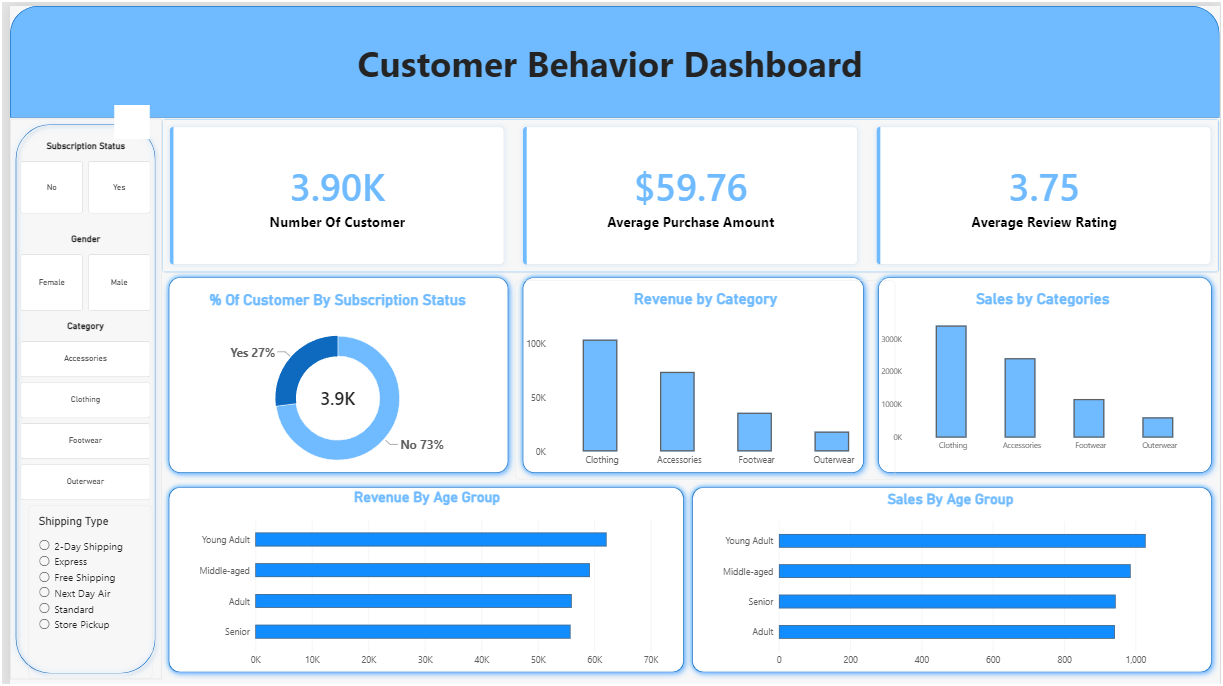

This screenshot's page, from the dashboard's own definition file:
{"tool":"powerbi","page":{"name":"Page 1","canvas":[1920,1080],"ordinal":0},"visuals":[{"type":"cardVisual","fields":{"Data":["customer.Number Of Customer","customer.Average Purchase Amount","customer.Average Review Rating"]},"box":[240,177.5,1680,245],"z":0},{"type":"shape","box":[0,0,1920,177.5],"z":1000},{"type":"textbox","box":[0,52.5,1920,102.5],"z":2000},{"type":"shape","box":[240.5,419,561.9,333.3],"z":3000},{"type":"donutChart","title":"% Of Customer By Subscription Status ","fields":{"Category":["customer.subscription_status"],"Y":["CountNonNull(customer.customer_id)"]},"box":[223.8,435.7,592.5,330],"z":4000},{"type":"shape","box":[802.4,419,564.3,333.3],"z":5000},{"type":"shape","box":[1366.7,419,552.4,333.3],"z":6000},{"type":"clusteredColumnChart","title":"Revenue by Category","fields":{"Category":["customer.category"],"Y":["Sum(customer.purchase_amount)"]},"box":[802.4,435.7,602.4,316.7],"z":7000},{"type":"clusteredColumnChart","title":"Sales by Categories ","fields":{"Category":["customer.category"],"Y":["Sum(customer.customer_id)"]},"box":[1366.7,435.7,545.2,290.5],"z":8000},{"type":"shape","box":[1,178,240,890],"z":9000},{"type":"advancedSlicerVisual","title":"Subscription Status","fields":{"Values":["customer.subscription_status"]},"box":[15.7,214.3,207.1,115.7],"z":10000},{"type":"advancedSlicerVisual","title":"Gender","fields":{"Values":["customer.gender"]},"box":[17.1,361.4,207.1,122.9],"z":11000},{"type":"advancedSlicerVisual","title":"Category","fields":{"Values":["customer.category"]},"box":[17.8,500,206.7,293.3],"z":11001},{"type":"listSlicer","title":"Shipping Type","fields":{"Values":["customer.shipping_type"]},"box":[27.5,792.5,197.5,275],"z":11002},{"type":"shape","box":[240.5,752.4,840.5,316.7],"z":11004},{"type":"clusteredBarChart","title":"Revenue By Age Group","fields":{"Category":["customer.age_group"],"Y":["Sum(customer.purchase_amount)"]},"box":[278.6,752.4,766.7,316.7],"z":11005},{"type":"shape","box":[1071.4,752.4,847.6,316.7],"z":11006},{"type":"clusteredBarChart","title":"Sales By Age Group","fields":{"Category":["customer.age_group"],"Y":["CountNonNull(customer.customer_id)"]},"box":[1109.5,754.8,766.7,314.3],"z":11007}]}

Visuals, with their boxes in screenshot pixels (x1, y1, x2, y2), scaled from the page's 1920x1080 canvas onto the 1223x686 screenshot:
cardVisual - customer.Number Of Customer x customer.Average Purchase Amount: left=153, top=113, right=1222, bottom=268
shape: left=0, top=0, right=1222, bottom=113
textbox: left=0, top=33, right=1222, bottom=98
shape: left=153, top=266, right=511, bottom=478
"% Of Customer By Subscription Status " donutChart: left=143, top=277, right=520, bottom=486
shape: left=511, top=266, right=871, bottom=478
shape: left=871, top=266, right=1222, bottom=478
"Revenue by Category" clusteredColumnChart: left=511, top=277, right=895, bottom=478
"Sales by Categories " clusteredColumnChart: left=871, top=277, right=1218, bottom=461
shape: left=1, top=113, right=154, bottom=678
"Subscription Status" advancedSlicerVisual: left=10, top=136, right=142, bottom=210
"Gender" advancedSlicerVisual: left=11, top=230, right=143, bottom=308
"Category" advancedSlicerVisual: left=11, top=318, right=143, bottom=504
"Shipping Type" listSlicer: left=18, top=503, right=143, bottom=678
shape: left=153, top=478, right=689, bottom=679
"Revenue By Age Group" clusteredBarChart: left=177, top=478, right=666, bottom=679
shape: left=682, top=478, right=1222, bottom=679
"Sales By Age Group" clusteredBarChart: left=707, top=479, right=1195, bottom=679
